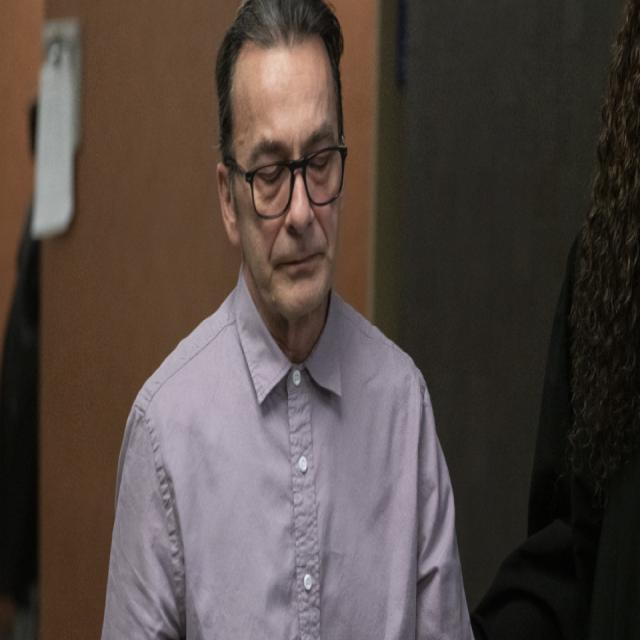human: (109, 9, 496, 640)
